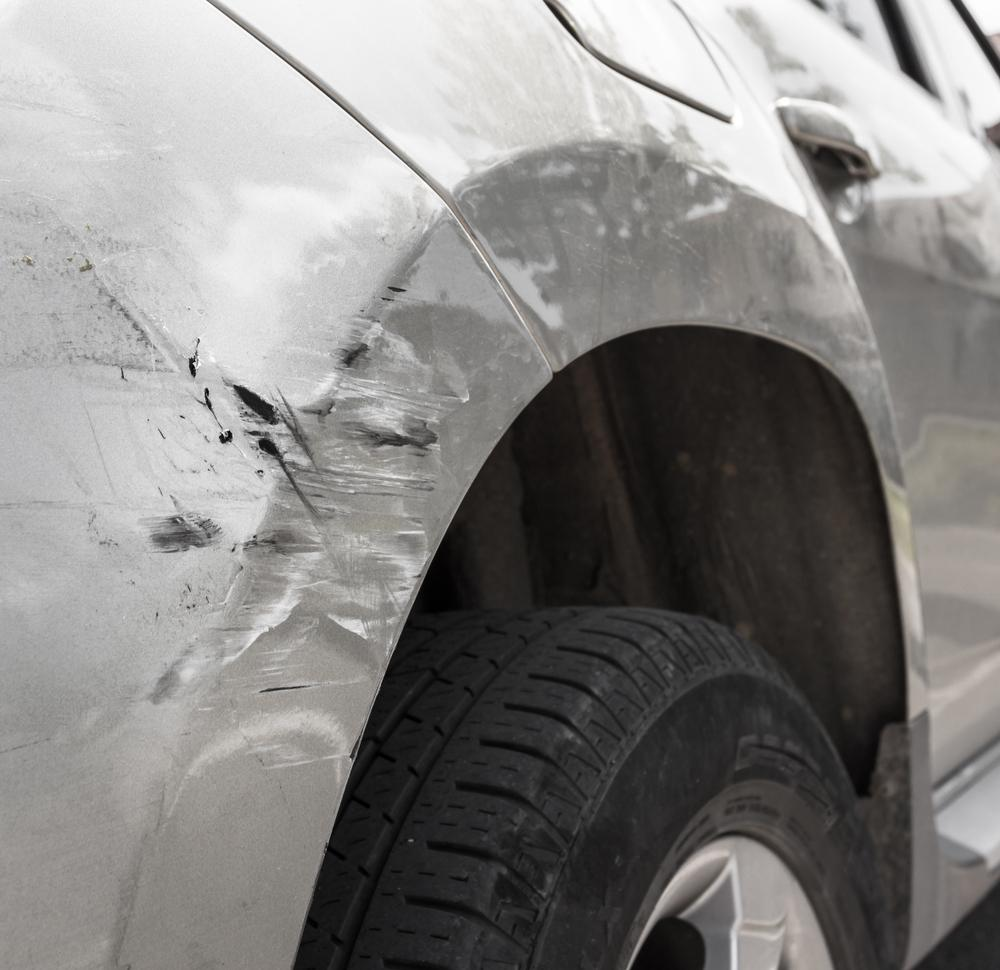scratch: (0, 70, 474, 782)
